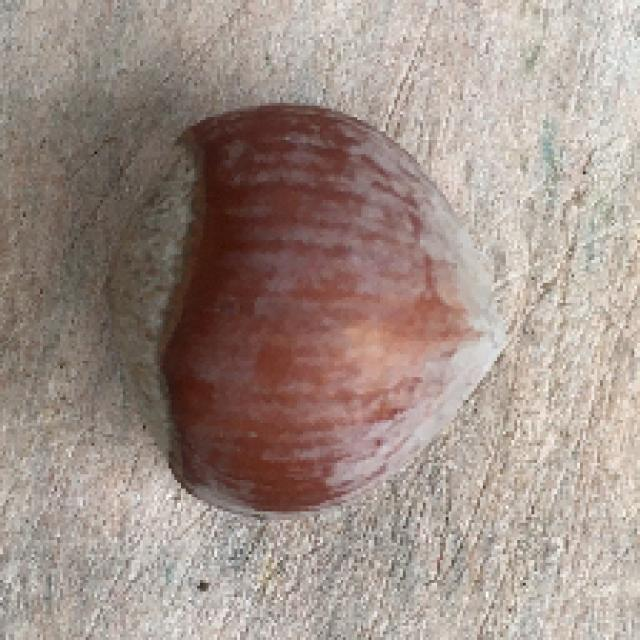qualityHazelnut: (102, 103, 505, 522)
